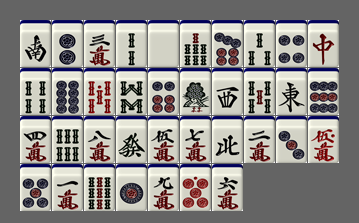0m: (308, 116, 339, 163)
0p: (180, 164, 211, 211)
0s: (84, 68, 115, 115)
1m: (52, 164, 83, 211)
1p: (116, 164, 147, 211)
1s: (180, 68, 211, 115)
1z: (276, 68, 307, 115)
2m: (244, 116, 275, 163)
2p: (52, 20, 83, 67)
2s: (116, 20, 147, 67)
2z: (20, 20, 51, 67)
3m: (84, 20, 115, 67)
3p: (276, 116, 307, 163)
3s: (244, 20, 275, 67)
3z: (212, 68, 243, 115)
4m: (20, 116, 51, 163)
4p: (276, 20, 307, 67)
4s: (20, 68, 51, 115)
4z: (212, 116, 243, 163)
5m: (148, 116, 179, 163)
5p: (20, 164, 51, 211)
5s: (244, 68, 275, 115)
5z: (148, 20, 179, 67)
6m: (212, 164, 243, 211)
6p: (148, 68, 179, 115)
6s: (52, 116, 83, 163)
6z: (116, 116, 147, 163)
7m: (180, 116, 211, 163)
7p: (212, 20, 243, 67)
7s: (180, 20, 211, 67)
7z: (308, 20, 339, 67)
8m: (84, 116, 115, 163)
8p: (52, 68, 83, 115)
8s: (116, 68, 147, 115)
9m: (148, 164, 179, 211)
9p: (308, 68, 339, 115)
9s: (84, 164, 115, 211)
